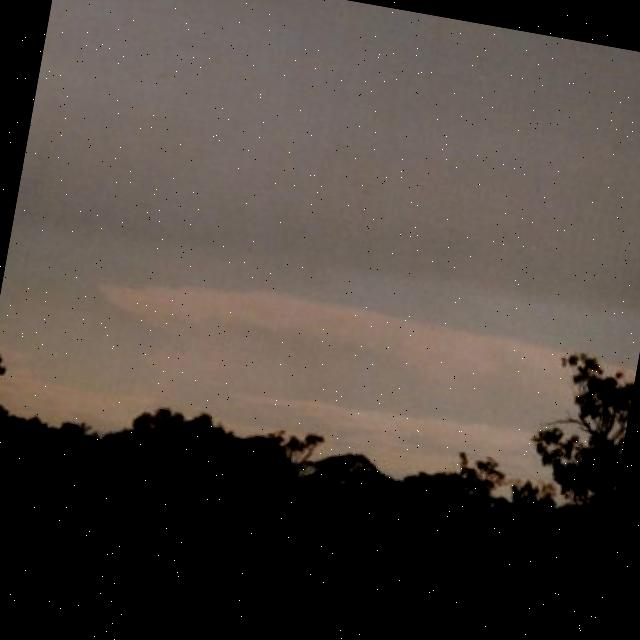Ns: (1, 1, 640, 416)
